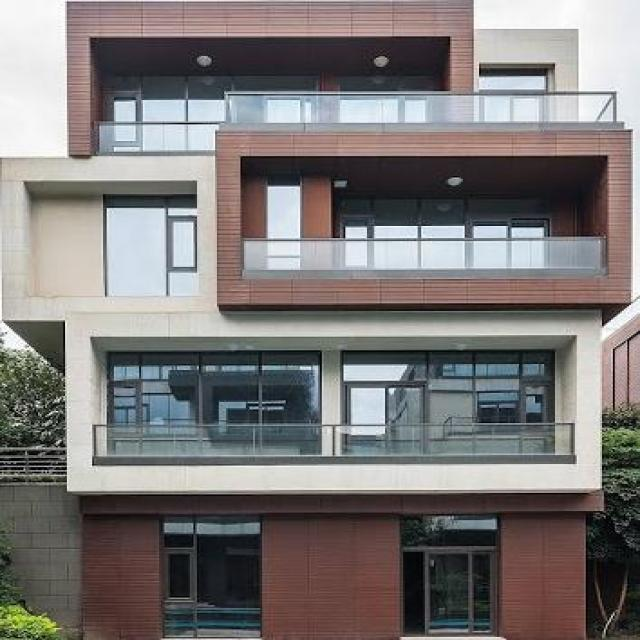door: (400, 513, 500, 638)
railing: (93, 91, 616, 155), (91, 423, 577, 457), (243, 238, 609, 276)
window: (99, 73, 438, 121), (104, 350, 322, 423), (346, 353, 556, 424), (103, 192, 201, 296), (333, 192, 550, 237), (163, 514, 264, 610), (268, 180, 304, 240), (479, 69, 549, 91)
